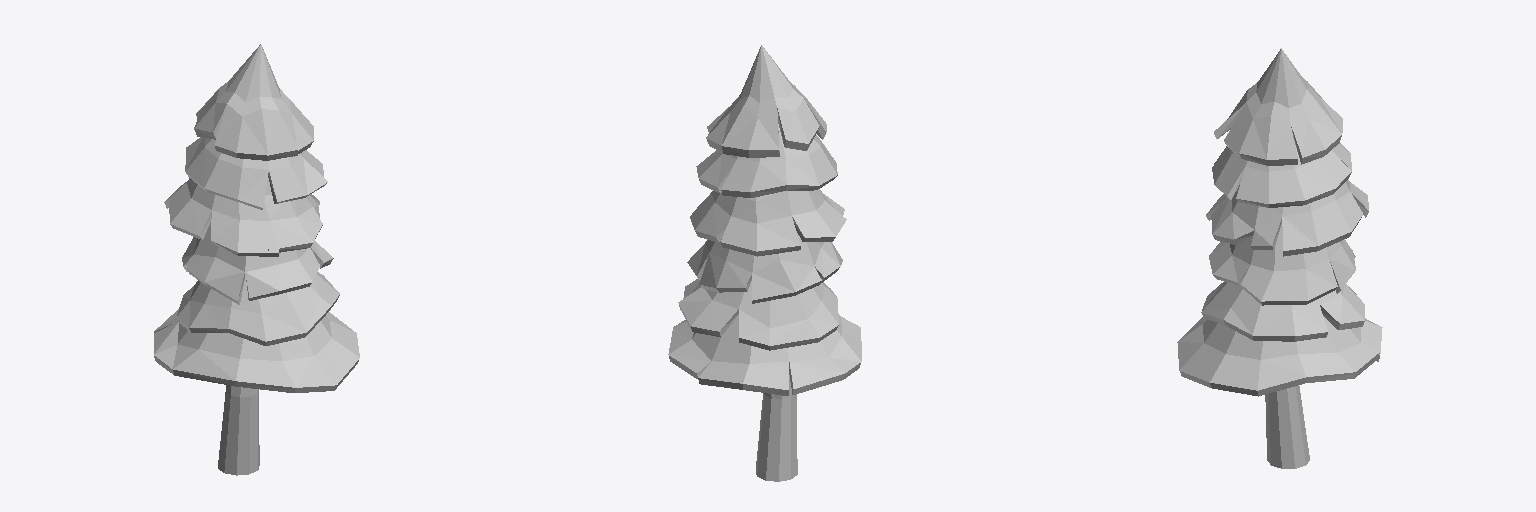
File: Tree_1.obj
3 renders of one model, left to right at view 1: azimuth 30°, elevation 25°; view 2: azimuth 150°, elevation 25°; view 3: azimuth 270°, elevation 25°, orthographic.
Parts seen in each view (by area): view 1: Tree_1; view 2: Tree_1; view 3: Tree_1.
Boxes of the visible parts, <box> form: Tree_1: <box>154,44,359,475</box>; Tree_1: <box>668,45,861,481</box>; Tree_1: <box>1177,48,1382,468</box>.
Size of the model in its own units: 1.73 by 3.89 by 1.72.